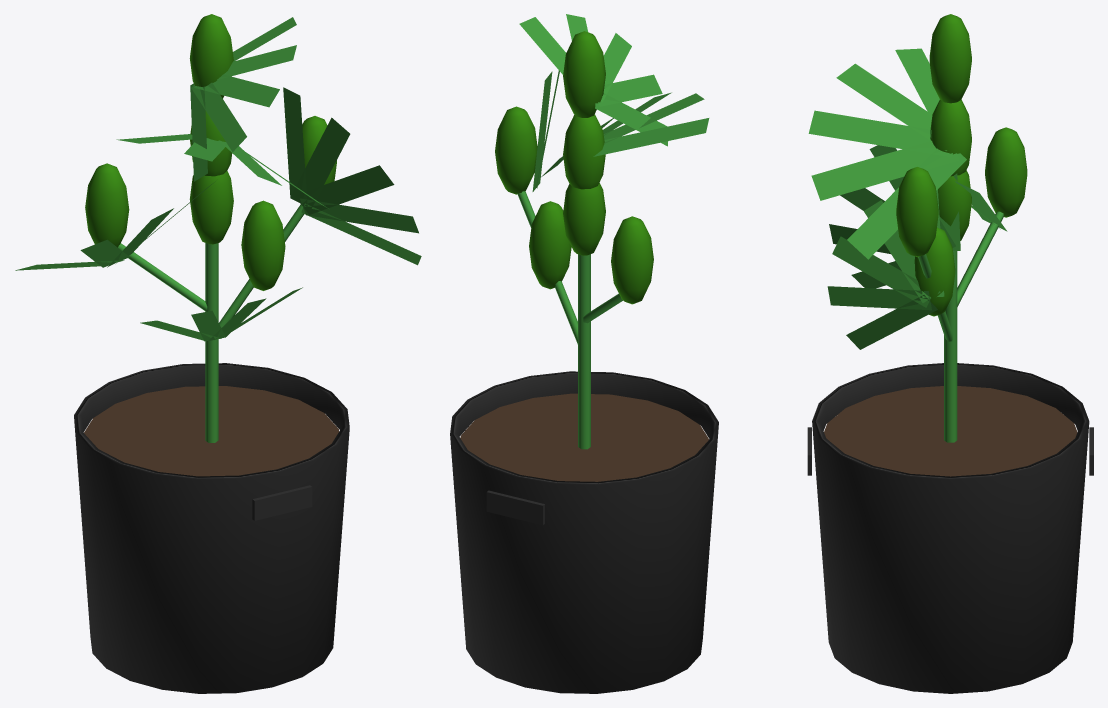
The model's file is pot-fabric-3gal-plant-flower.glb.
The picture shows the model from 3 angles, left to right: view 1: azimuth 30°, elevation 25°; view 2: azimuth 150°, elevation 25°; view 3: azimuth 270°, elevation 25°; orthographic projection. The views are drawn at different scales.
Visible parts, largest first — view 1: pot_body, plant_leaves, soil_surface, plant_buds, plant_stem, pot_handles; view 2: pot_body, plant_buds, soil_surface, plant_leaves, plant_stem, pot_handles; view 3: pot_body, plant_leaves, soil_surface, plant_buds, plant_stem, pot_handles.
Part boxes in pixels (x1,y1,x2,y2): pot_body: (74, 363, 349, 693); plant_leaves: (15, 17, 421, 341); soil_surface: (84, 386, 338, 476); plant_buds: (85, 14, 336, 290); plant_stem: (118, 204, 304, 442); pot_handles: (252, 485, 312, 520); pot_body: (450, 371, 718, 693); plant_buds: (495, 31, 653, 304); soil_surface: (460, 393, 708, 481); plant_leaves: (519, 14, 709, 191); plant_stem: (517, 191, 622, 449); pot_handles: (486, 490, 544, 525); pot_body: (812, 363, 1089, 693); plant_leaves: (808, 48, 1007, 349); soil_surface: (824, 386, 1077, 476); plant_buds: (896, 14, 1027, 316); plant_stem: (918, 211, 1003, 442); pot_handles: (807, 427, 1093, 475).
Size of the model in its own units: 0.3588 by 0.625 by 0.2656.
